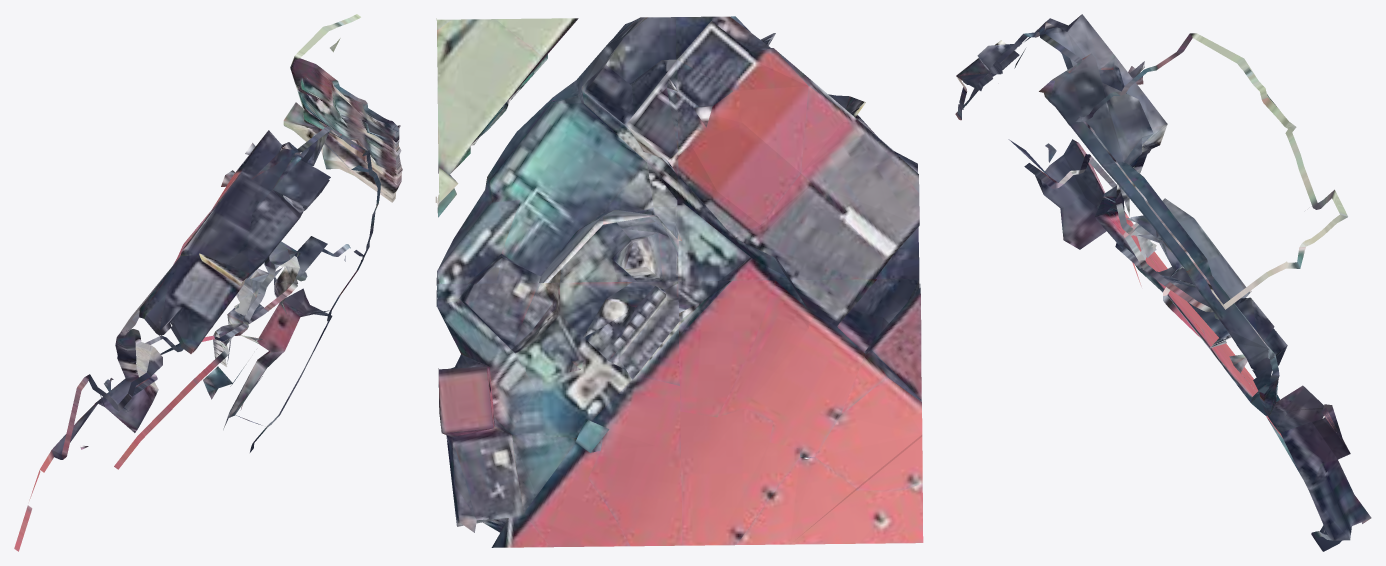
3 renders of one model, left to right at view 1: azimuth 30°, elevation 25°; view 2: azimuth 150°, elevation 25°; view 3: azimuth 270°, elevation 25°, orthographic. The views are drawn at different scales.
Bounding box in the file's own units: 38.17 × 39.26 × 28.7.
Materials: 1 (1 with a texture image).
